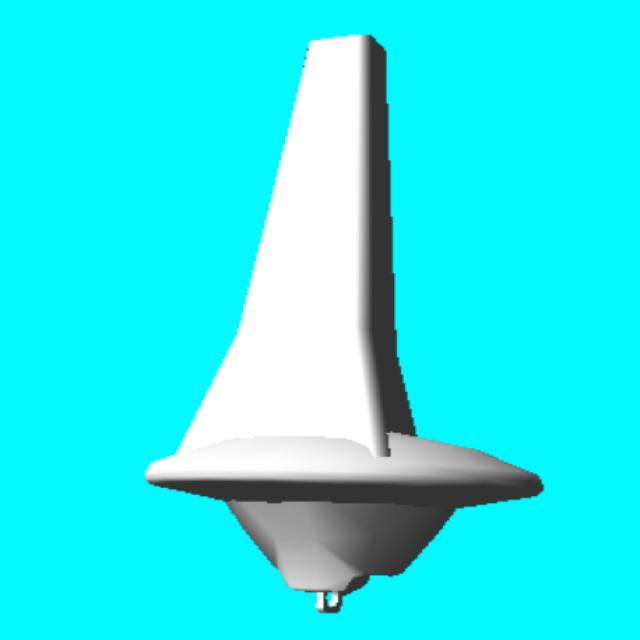WhiteBuoy: (145, 35, 543, 612)
